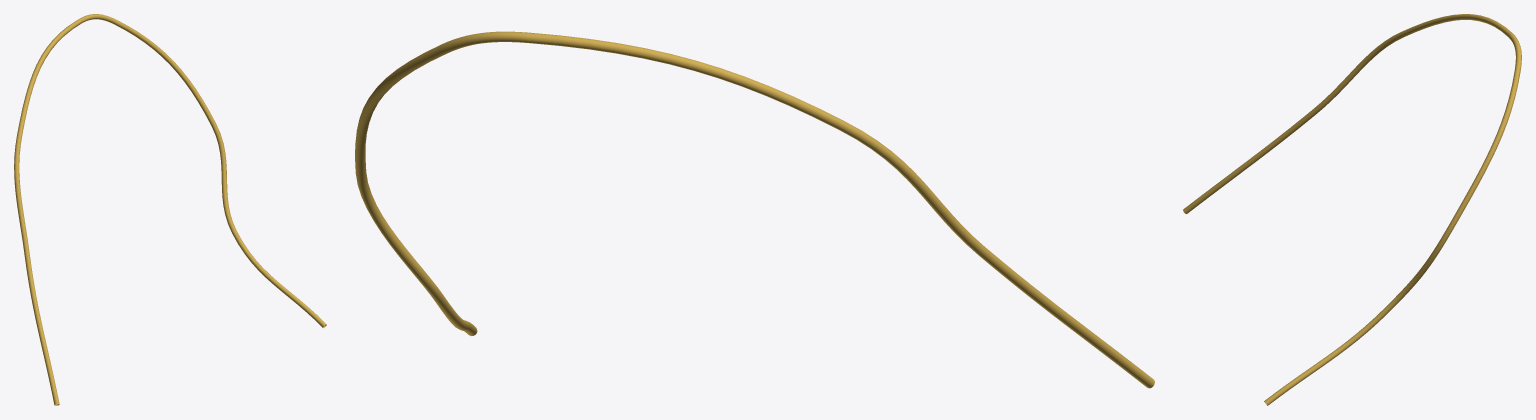
3 views of the same model, side by side, from view 1: azimuth 30°, elevation 25°; view 2: azimuth 150°, elevation 25°; view 3: azimuth 270°, elevation 25° (orthographic). The views are drawn at different scales.
Parts seen in each view (by area): view 1: 右侧臂外侧上皮神经; view 2: 右侧臂外侧上皮神经; view 3: 右侧臂外侧上皮神经.
Boxes of the visible parts, x1,y1,x2,y2 form: 右侧臂外侧上皮神经: (14, 14, 326, 405); 右侧臂外侧上皮神经: (355, 31, 1154, 388); 右侧臂外侧上皮神经: (1183, 14, 1521, 405).
Bounding box in the file's own units: 0.0981 × 0.0802 × 0.0826.
